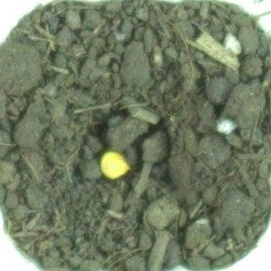pepper seed: (31, 58, 164, 239)
